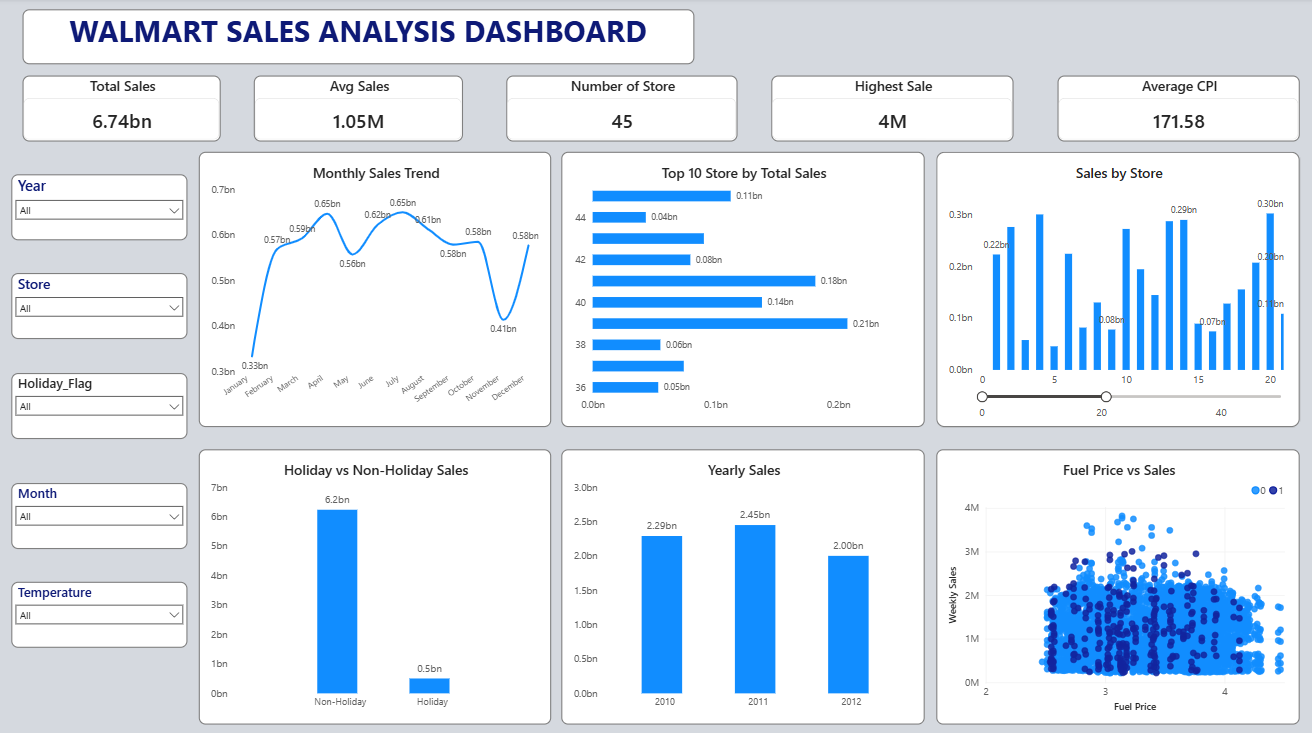

What the dashboard file says about the page in this screenshot:
{"tool":"powerbi","page":{"name":"Page 1","canvas":[1920,1080],"ordinal":0},"visuals":[{"type":"cardVisual","title":"Total Sales ","fields":{"Data":["Walmart.Total Sales"]},"box":[32,112,288,96],"z":0},{"type":"cardVisual","title":"Avg Sales","fields":{"Data":["Walmart.Avg Sales"]},"box":[368,112,304,96],"z":1000},{"type":"cardVisual","title":"Number of Store","fields":{"Data":["Walmart.Number of Store"]},"box":[736,112,336,96],"z":2000},{"type":"cardVisual","title":"Highest Sale","fields":{"Data":["Walmart.Highest Sale"]},"box":[1120,112,352,96],"z":3000},{"type":"lineChart","title":"Monthly Sales Trend","fields":{"Category":["Walmart.Date.Variation.Date Hierarchy.Month"],"Y":["Walmart.Total Sales"]},"box":[288,224,512,400],"z":4000},{"type":"barChart","title":"Top 10 Store by Total Sales","fields":{"Category":["Walmart.Store"],"Y":["Walmart.Total Sales"]},"box":[816,224,528,400],"z":5000},{"type":"clusteredColumnChart","title":"Holiday vs Non-Holiday Sales","fields":{"Category":["Walmart.Holiday Type"],"Y":["Walmart.Total Sales"]},"box":[288,656,512,400],"z":6000},{"type":"clusteredColumnChart","title":"Sales by Store","fields":{"Category":["Walmart.Store"],"Y":["Walmart.Total Sales"]},"box":[1360,224,528,400],"z":7000},{"type":"clusteredColumnChart","title":"Yearly Sales","fields":{"Category":["Walmart.Date.Variation.Date Hierarchy.Year"],"Y":["Sum(Walmart.Weekly_Sales)"]},"box":[816,656,528,400],"z":8000},{"type":"scatterChart","title":"Fuel Price vs Sales","fields":{"Series":["Walmart.Holiday_Flag"],"X":["Sum(Walmart.Fuel_Price)"],"Y":["Walmart.Weekly_Sales"]},"box":[1360,656,528,400],"z":9000},{"type":"slicer","title":"Total Sales ","fields":{"Values":["Walmart.Date.Variation.Date Hierarchy.Month"]},"box":[16,704,256,96],"z":9001},{"type":"slicer","title":"Total Sales ","fields":{"Values":["Walmart.Holiday_Flag"]},"box":[16,544,256,96],"z":9002},{"type":"slicer","title":"Total Sales ","fields":{"Values":["Walmart.Store"]},"box":[16,400,256,96],"z":9003},{"type":"slicer","title":"Total Sales ","fields":{"Values":["Walmart.Date.Variation.Date Hierarchy.Year"]},"box":[16,256,256,96],"z":9004},{"type":"textbox","box":[32,16,976,80],"z":9005},{"type":"slicer","title":"Total Sales ","fields":{"Values":["Walmart.Temperature"]},"box":[16,848,256,96],"z":9006},{"type":"cardVisual","title":"Average CPI","fields":{"Data":["Walmart.Average CPI"]},"box":[1536,112,352,96],"z":9007}]}

Visuals, with their boxes in screenshot pixels (x1, y1, x2, y2), scaled from the page's 1920x1080 canvas onto the 1312x733 screenshot:
"Total Sales " cardVisual: region(22, 76, 219, 141)
"Avg Sales" cardVisual: region(251, 76, 459, 141)
"Number of Store" cardVisual: region(503, 76, 733, 141)
"Highest Sale" cardVisual: region(765, 76, 1006, 141)
"Monthly Sales Trend" lineChart: region(197, 152, 547, 424)
"Top 10 Store by Total Sales" barChart: region(558, 152, 918, 424)
"Holiday vs Non-Holiday Sales" clusteredColumnChart: region(197, 445, 547, 717)
"Sales by Store" clusteredColumnChart: region(929, 152, 1290, 424)
"Yearly Sales" clusteredColumnChart: region(558, 445, 918, 717)
"Fuel Price vs Sales" scatterChart: region(929, 445, 1290, 717)
"Total Sales " slicer: region(11, 478, 186, 543)
"Total Sales " slicer: region(11, 369, 186, 434)
"Total Sales " slicer: region(11, 271, 186, 337)
"Total Sales " slicer: region(11, 174, 186, 239)
textbox: region(22, 11, 689, 65)
"Total Sales " slicer: region(11, 576, 186, 641)
"Average CPI" cardVisual: region(1050, 76, 1290, 141)
